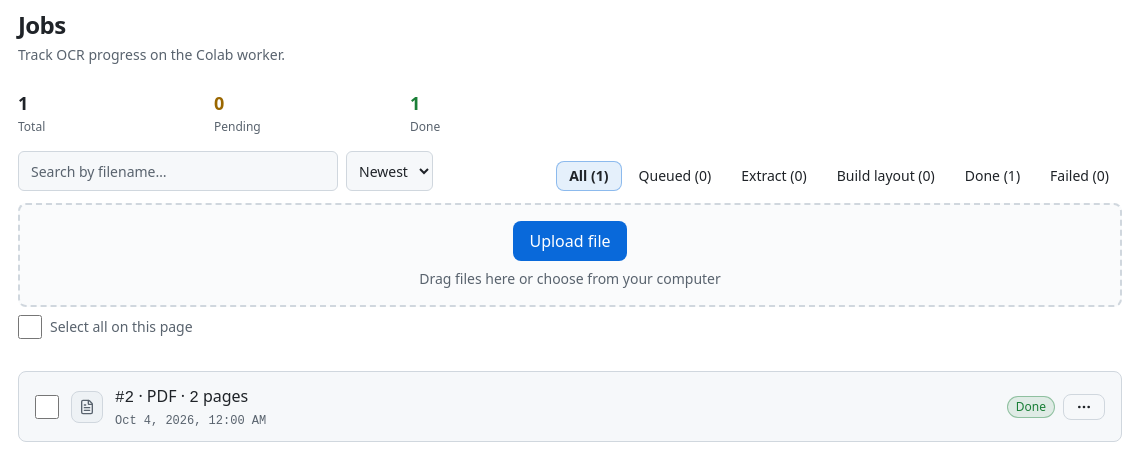
Scenario: filter with no matches shows empty-filter message
The width and height of the screenshot is (1143, 459).
Check: the list item with test id "job-row-2" is shown, box x1=19 y1=372 x2=1121 y2=441
Click the button with test id "filter-failed" at (1080, 176), box x1=1037 y1=161 x2=1122 y2=191
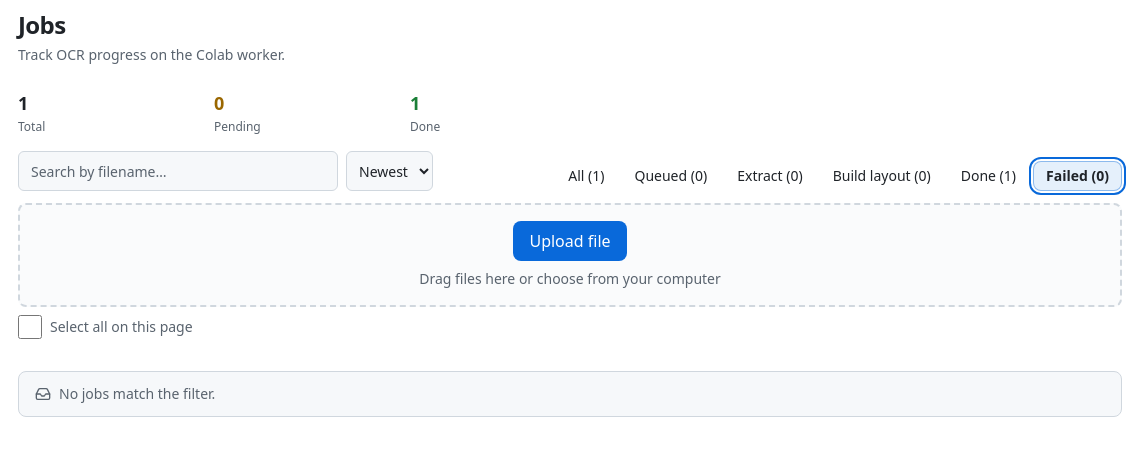
Check: the element with test id "empty-filter" reads "No jobs match the filter.", box x1=59 y1=384 x2=215 y2=403
Check: the list item with test id "job-row-2" is gone
